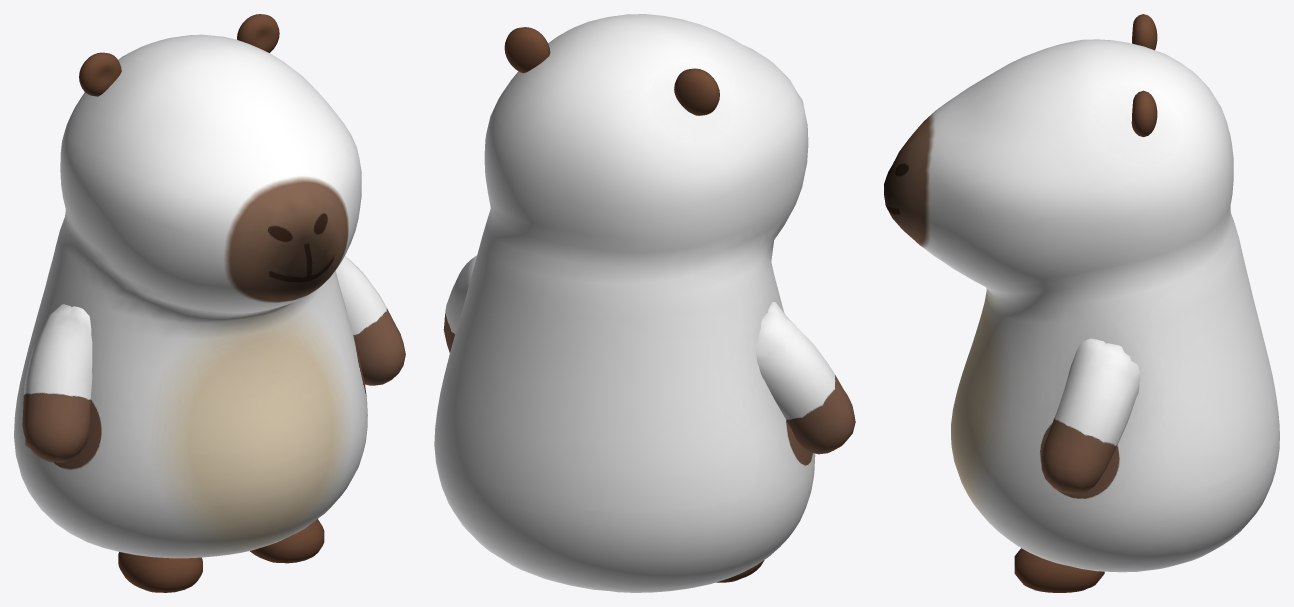
Rendered from capibara.glb.
The picture shows the model from 3 angles, left to right: view 1: azimuth 30°, elevation 25°; view 2: azimuth 150°, elevation 25°; view 3: azimuth 270°, elevation 25°; orthographic projection. The views are drawn at different scales.
Parts seen in each view (by area): view 1: cuerpo, brazoI, brazoD, orejaI, orejaD; view 2: cuerpo, brazoI, orejaI, orejaD, brazoD; view 3: cuerpo, brazoD, orejaD, orejaI.
Boxes of the visible parts, x1=… form: cuerpo: x1=14, y1=34, x2=367, y2=592; brazoI: x1=22, y1=304, x2=92, y2=462; brazoD: x1=335, y1=256, x2=405, y2=385; orejaI: x1=79, y1=52, x2=121, y2=96; orejaD: x1=237, y1=14, x2=279, y2=52; cuerpo: x1=434, y1=14, x2=815, y2=592; brazoI: x1=755, y1=302, x2=855, y2=454; orejaI: x1=674, y1=68, x2=719, y2=115; orejaD: x1=504, y1=27, x2=550, y2=73; brazoD: x1=443, y1=255, x2=476, y2=352; cuerpo: x1=884, y1=39, x2=1279, y2=592; brazoD: x1=1041, y1=338, x2=1140, y2=493; orejaD: x1=1131, y1=90, x2=1157, y2=136; orejaI: x1=1132, y1=14, x2=1157, y2=50.
Size of the model in its own units: 1.85 by 2.38 by 1.7.
Materials: 2 (2 with a texture image).
